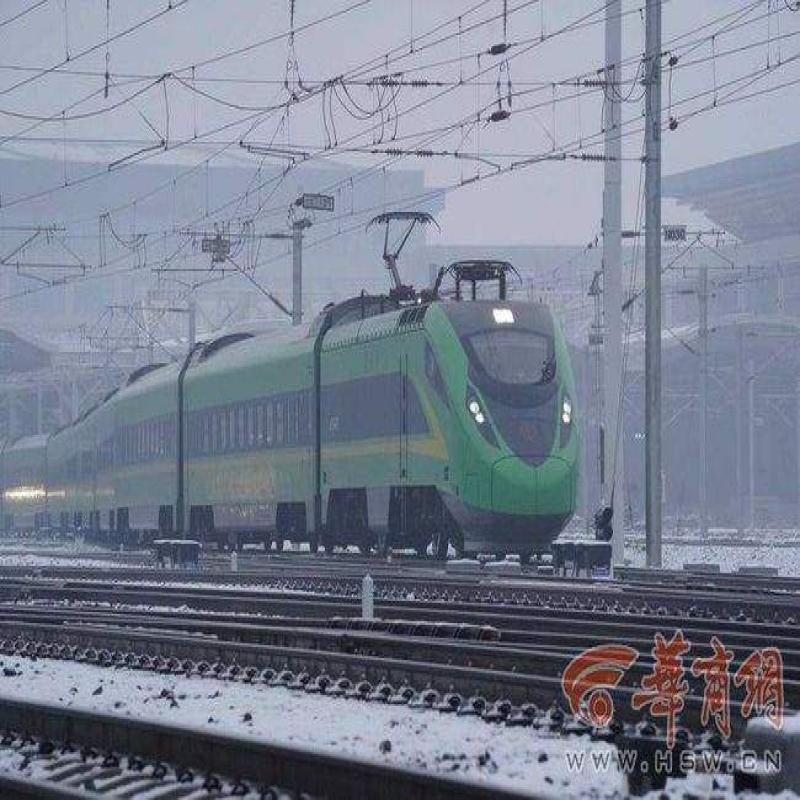train: (122, 311, 581, 556)
